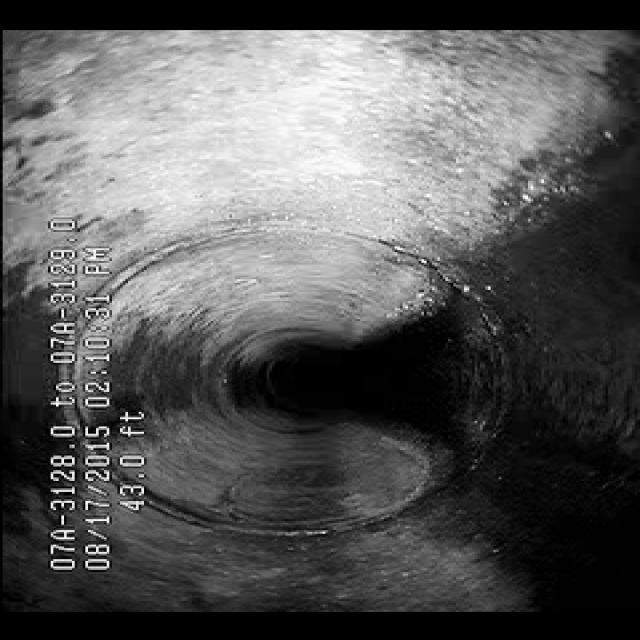Crack: (186, 465, 262, 517)
